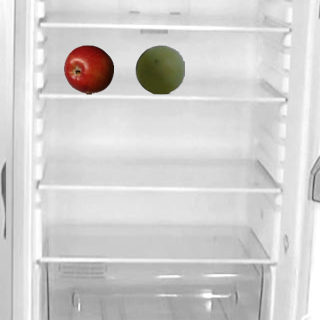Apple Braeburn: (63, 44, 113, 94)
Grape White 4: (134, 44, 184, 94)
